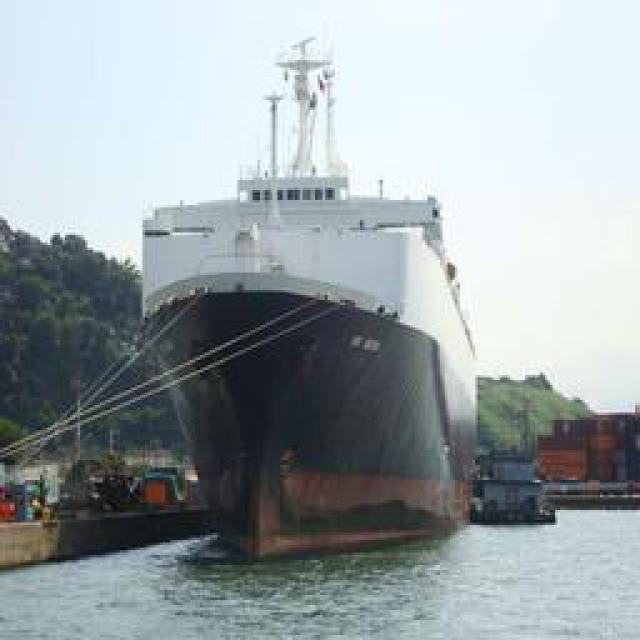Ship: (126, 55, 484, 568)
